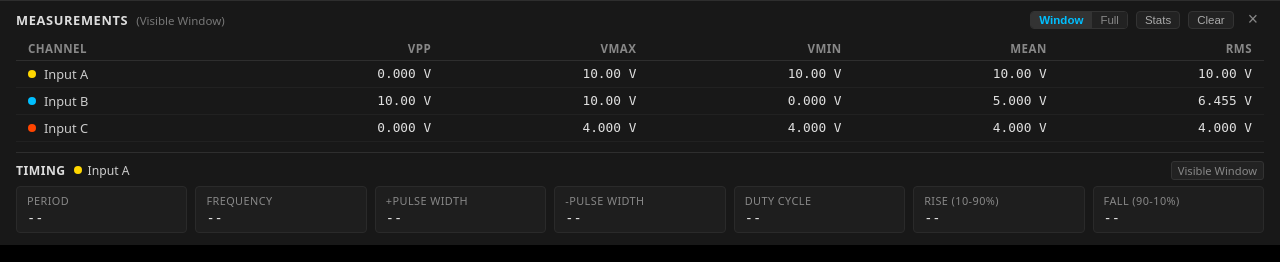
Test: MeasurementsTable (browser) - Issue #278 › toggles between Visible-window and Full-record gating modes with expected labeling and values (Issue #280 AC3)
The width and height of the screenshot is (1280, 262).
Expected: the button with test id "gating-mode-visible" is shown, [1031,12,1092,28]
Expected: the text with test id "measurements-gating-label" reads "(Visible Window)", [136,13,225,28]
Click 'Full' to switch to Full-record gating mode
Click the button with test id "gating-mode-full". click: [1110, 20]
box: [1092,12,1127,28]
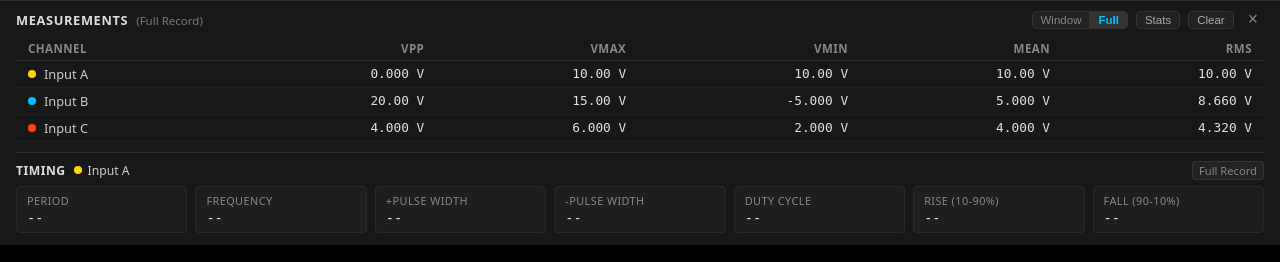
Expected: the text with test id "measurements-gating-label" reads "(Full Record)", [136,13,203,28]
Expected: the cell with test id "measurement-vmax-b" reads "15.00 V", [572,93,626,108]
Click 'Window' to revert to Visible-window gating mode
Click the button with test id "gating-mode-visible". click: [1062, 20]
box: [1032,12,1090,28]
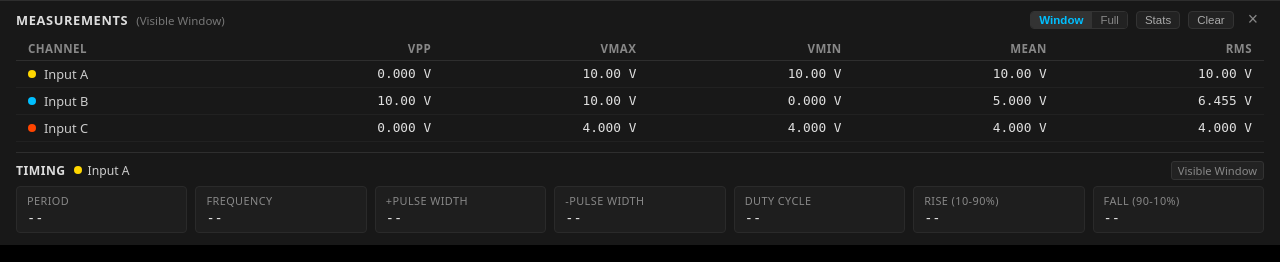
Expected: the text with test id "measurements-gating-label" reads "(Visible Window)", [136,13,225,28]
Expected: the cell with test id "measurement-vmax-b" reads "10.00 V", [582,93,636,108]
